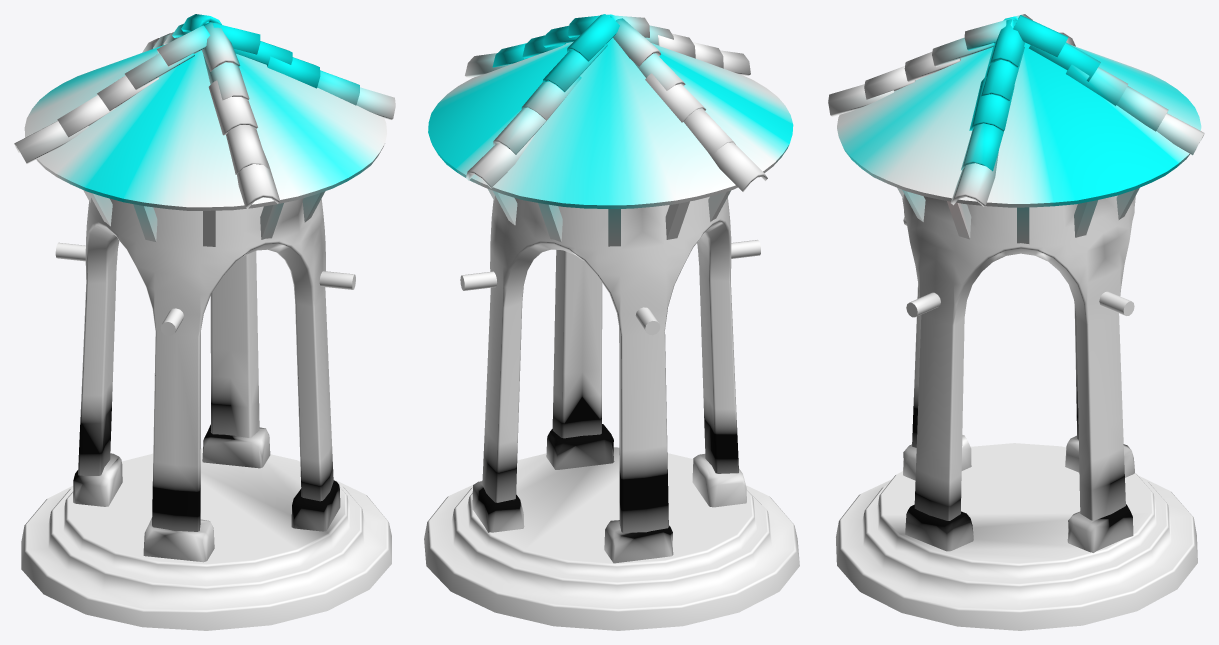
Rendered from SM_Shrine.FBX.
The picture shows the model from 3 angles, left to right: view 1: azimuth 30°, elevation 25°; view 2: azimuth 150°, elevation 25°; view 3: azimuth 270°, elevation 25°; orthographic projection.
Parts seen in each view (by area): view 1: SM_Shrine_LOD0; view 2: SM_Shrine_LOD0; view 3: SM_Shrine_LOD0.
Part boxes in pixels (box(x1,y1,x2,y2)): SM_Shrine_LOD0: box(14, 14, 395, 630); SM_Shrine_LOD0: box(424, 14, 799, 630); SM_Shrine_LOD0: box(828, 14, 1204, 630).
Size of the model in its own units: 509 by 495 by 777.
